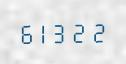one: (36, 20, 53, 44)
six: (18, 20, 35, 44)
three: (54, 20, 71, 43)
two: (72, 19, 89, 43), (90, 19, 107, 43)
